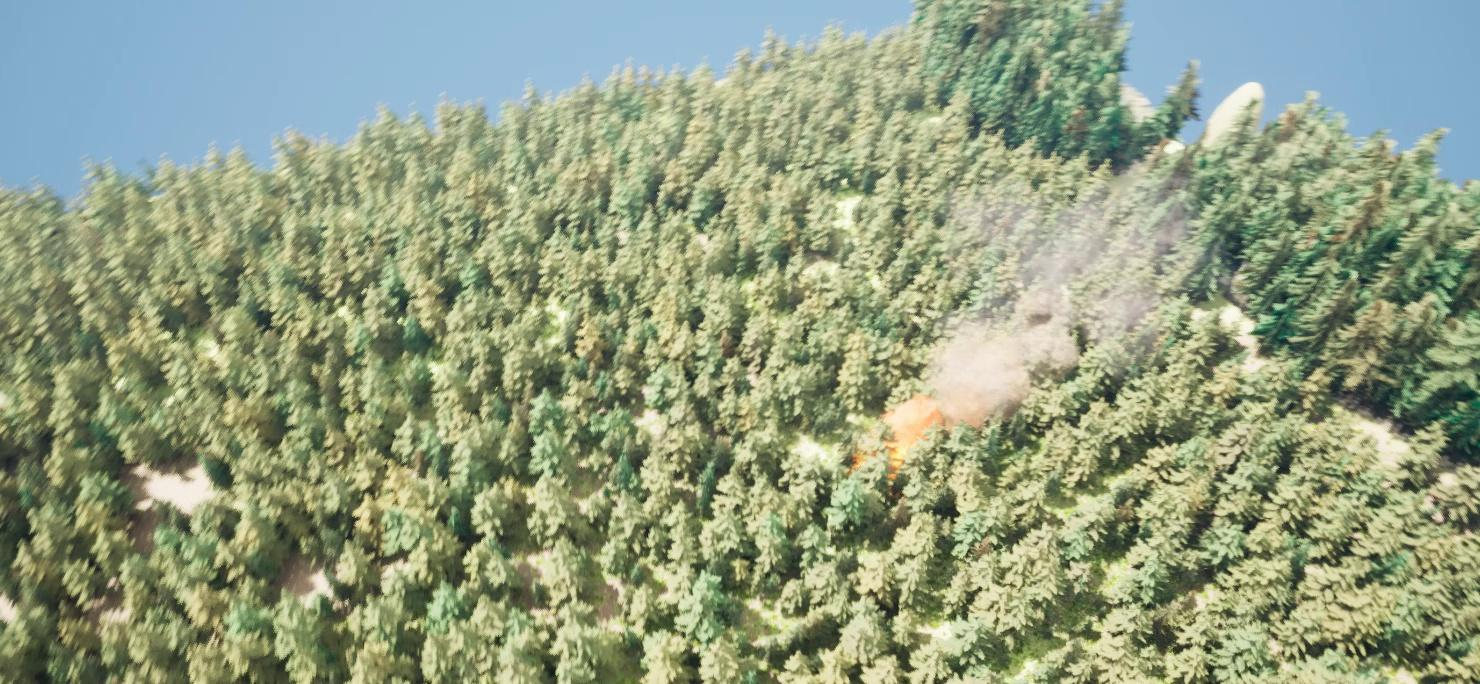smoke: (867, 173, 1185, 452)
